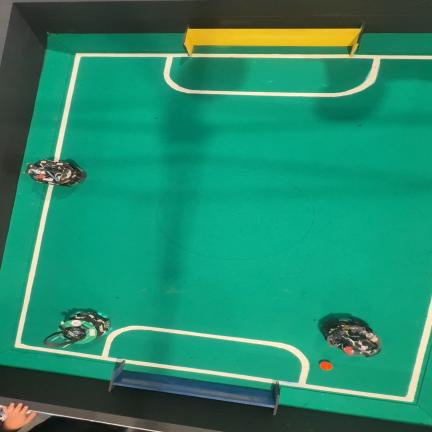cancha: (0, 34, 432, 425)
limites: (14, 185, 432, 403), (54, 53, 432, 161), (125, 360, 276, 384), (198, 54, 343, 58)
pelota: (319, 360, 332, 370)
porteria: (184, 24, 364, 57)
robot: (109, 360, 280, 415), (43, 311, 110, 348), (320, 317, 380, 357), (24, 160, 86, 187)
